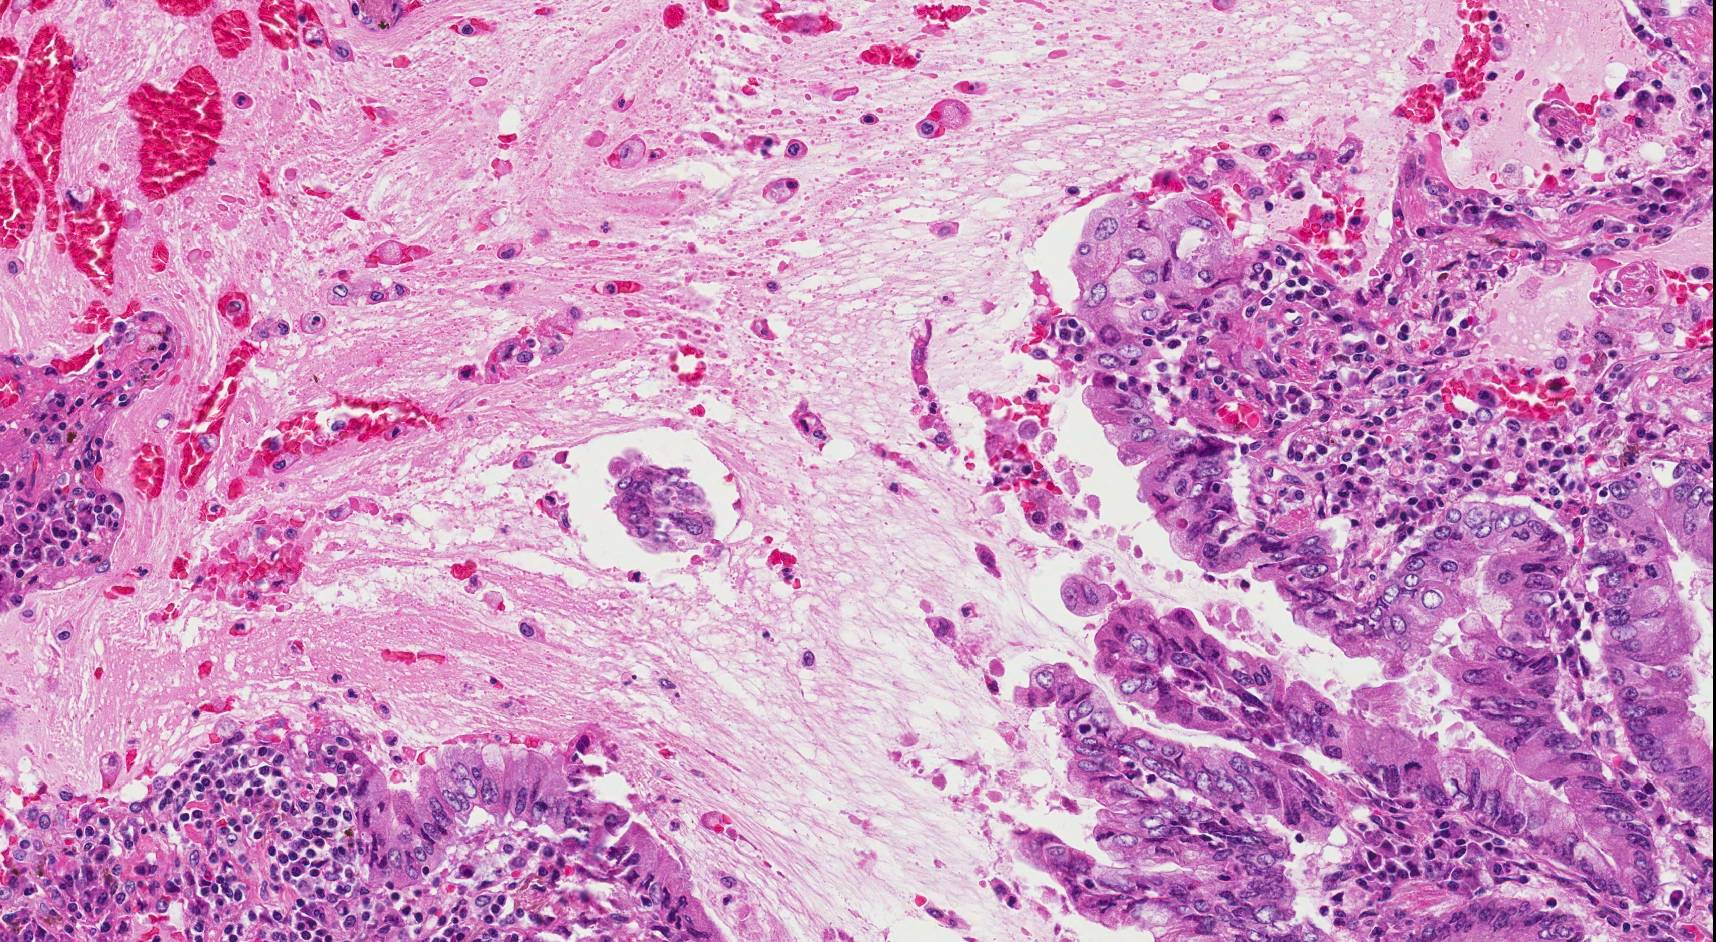stas: (608, 445, 724, 555)
